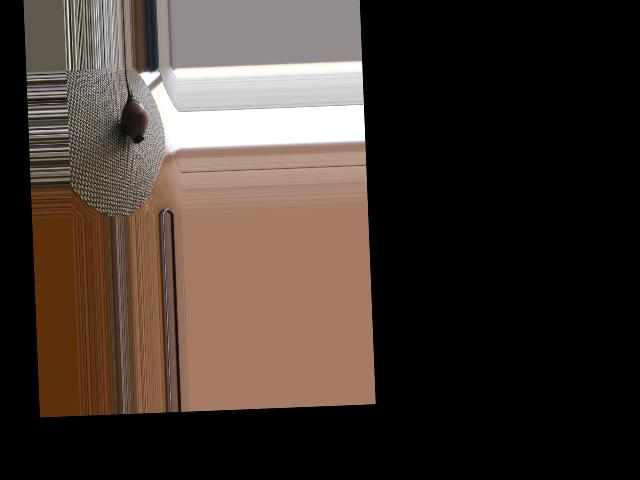beet: (119, 67, 149, 144)
